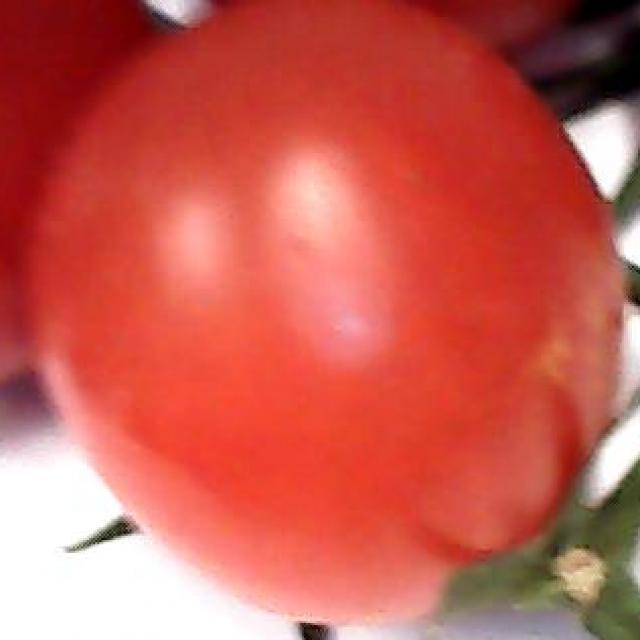Healthy: (62, 9, 620, 630)
